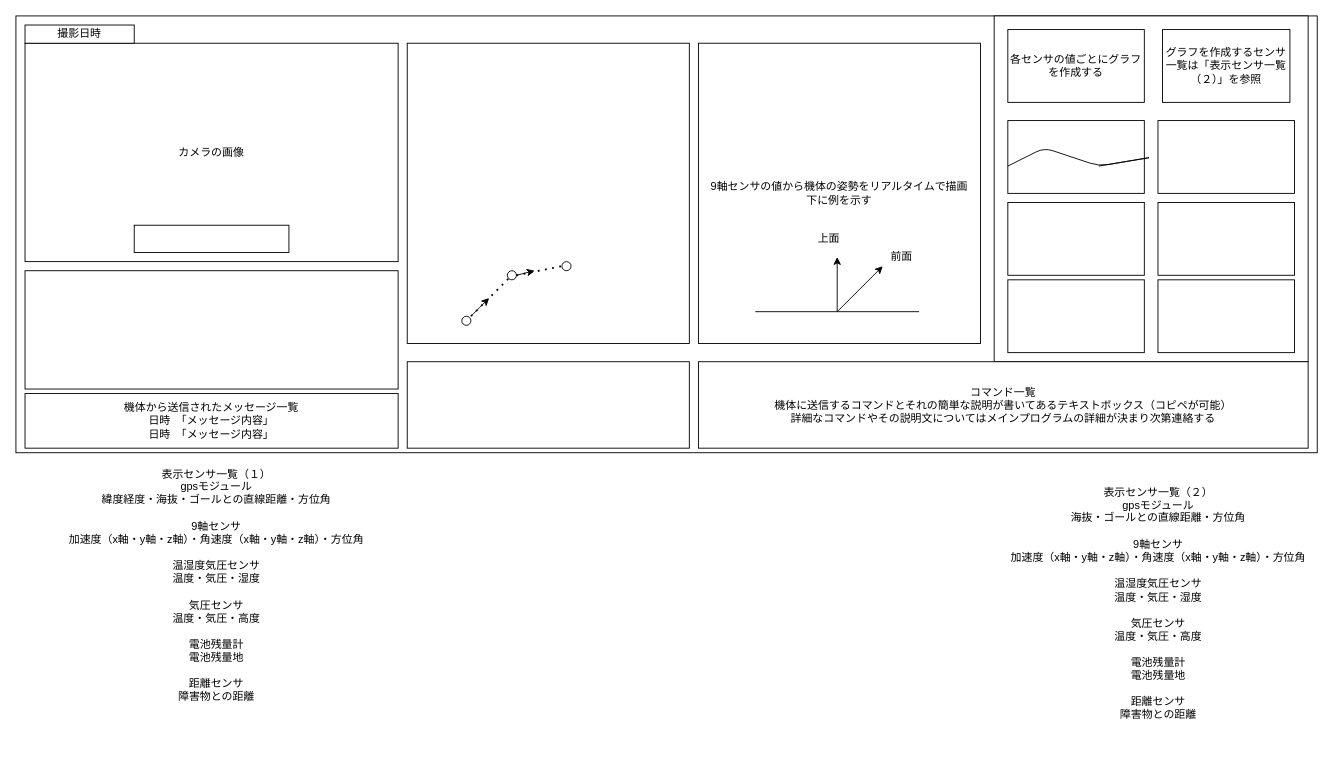
Image size: 1338x769. Some labels were removed from this diagram. The shapes that lost their labels are listed below. From the top down, each one's centre as x and y in pixels, then its label:
At point (547, 193): "機体から送信された緯度経度・9軸の方位角をマップに落とし込み、進んだルートを線で結び、機体の向きを矢印で示す".
At point (211, 238): "◀ 画像の切り替えボタン ▶".
At point (211, 329): "機体から送られてきた最新のセンサ値 (表示例)日時「メッセージ内容」 ここに表示するセンサ値一覧は「表示センサ一覧（１）」を参照".
At point (547, 404): "機体に送信するコマンド入力ボックス".
